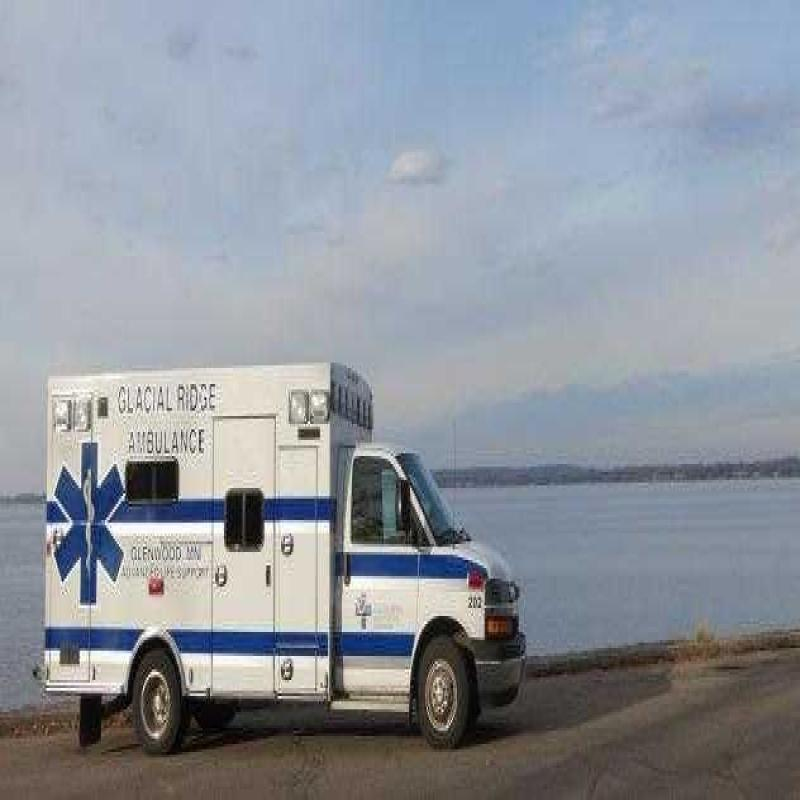AmbulanceSiren: (322, 355, 388, 435)
